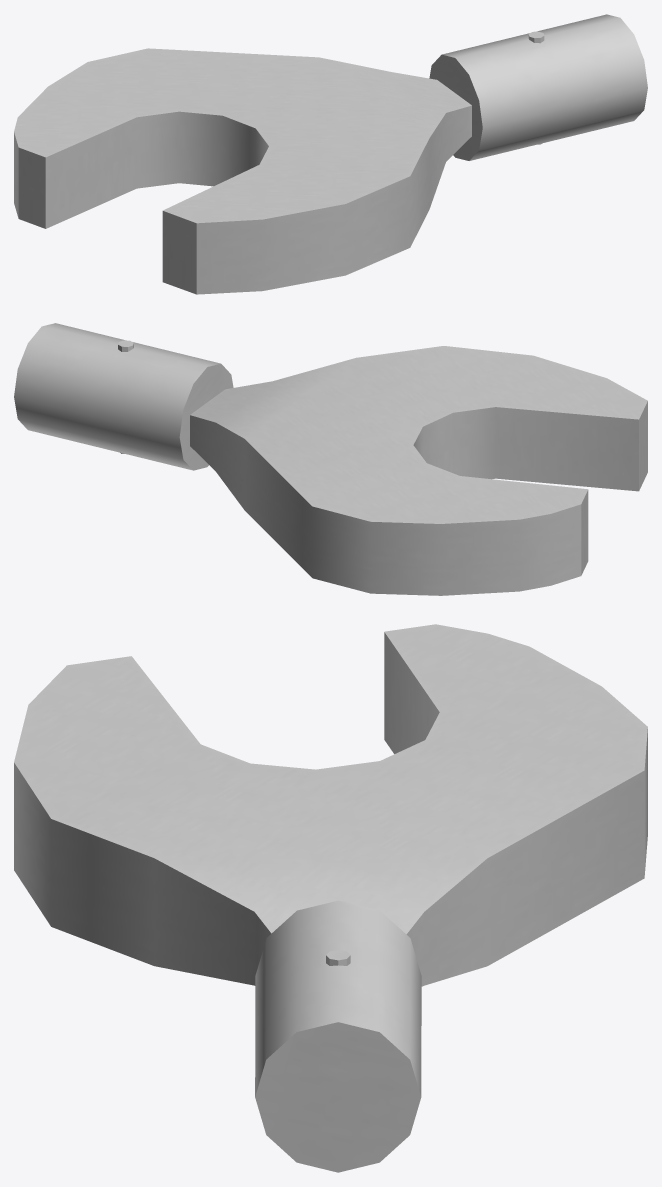
Rendered from tool_torque_wrench_nozzle_03.glb.
The picture shows the model from 3 angles, top to bottom: view 1: azimuth 30°, elevation 25°; view 2: azimuth 150°, elevation 25°; view 3: azimuth 270°, elevation 25°; orthographic projection. The views are drawn at different scales.
Visible parts, largest first — view 1: tool_torque_wrench_nozzle_03; view 2: tool_torque_wrench_nozzle_03; view 3: tool_torque_wrench_nozzle_03.
Part boxes in pixels (x1,y1,x2,y2): tool_torque_wrench_nozzle_03: (14, 14, 647, 294); tool_torque_wrench_nozzle_03: (14, 323, 647, 595); tool_torque_wrench_nozzle_03: (14, 624, 647, 1172).
Size of the model in its own units: 0.0752 by 0.0135 by 0.048.
Materials: 1 (1 with a texture image).
